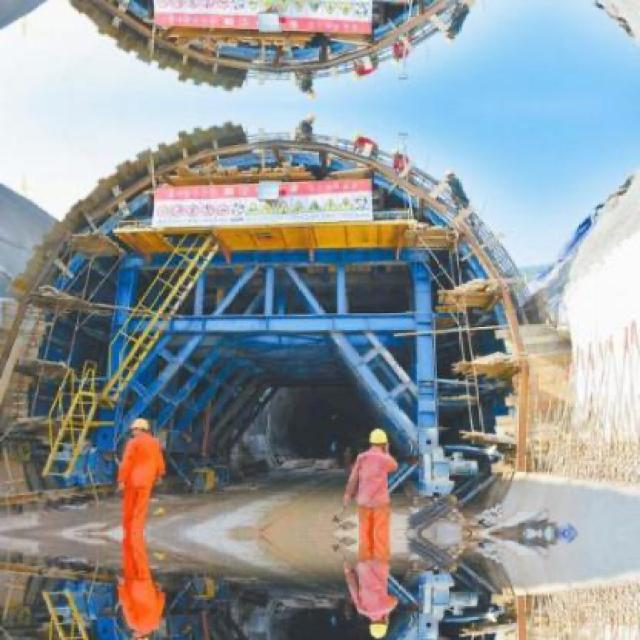con casco: (341, 398, 416, 478), (102, 400, 162, 466)
